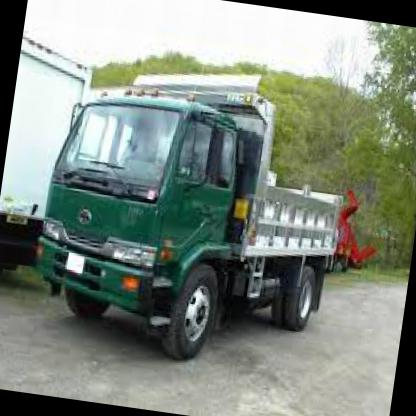truck: (26, 78, 256, 367)
